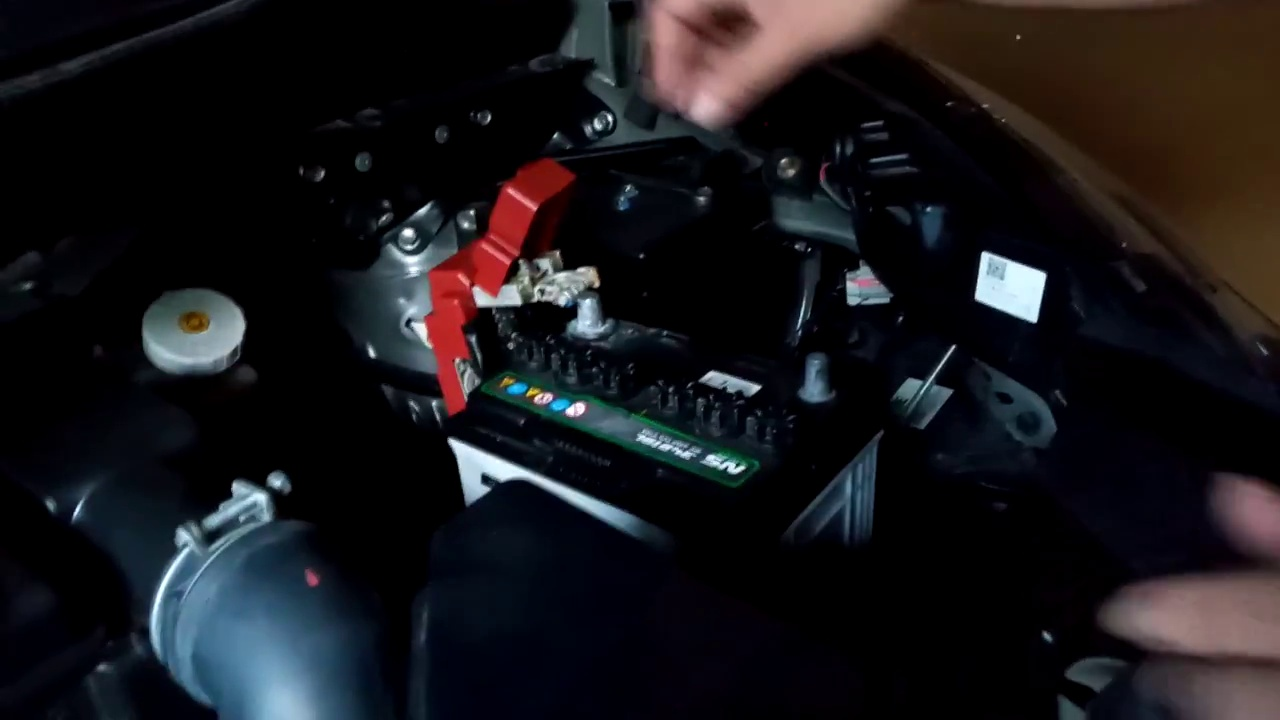battery: (420, 309, 897, 536)
neg_disconnected: (750, 331, 879, 422)
pos_disconnected: (405, 195, 629, 392)
